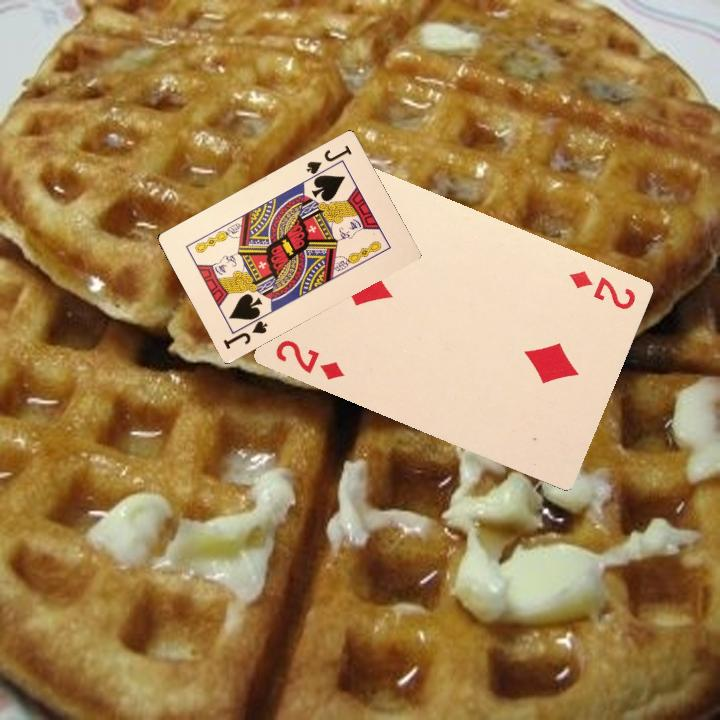2d: (271, 335, 346, 383), (565, 266, 638, 312)
Js: (219, 310, 270, 351), (303, 141, 354, 181)
